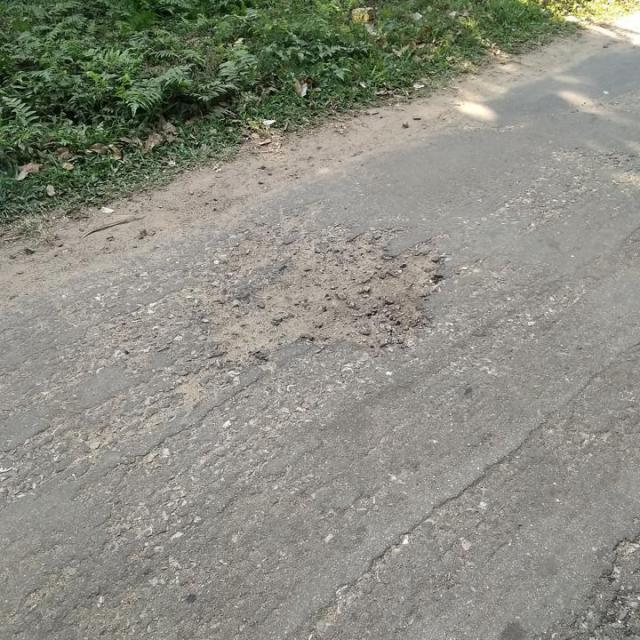pothole: (210, 213, 438, 366), (212, 222, 452, 363)
